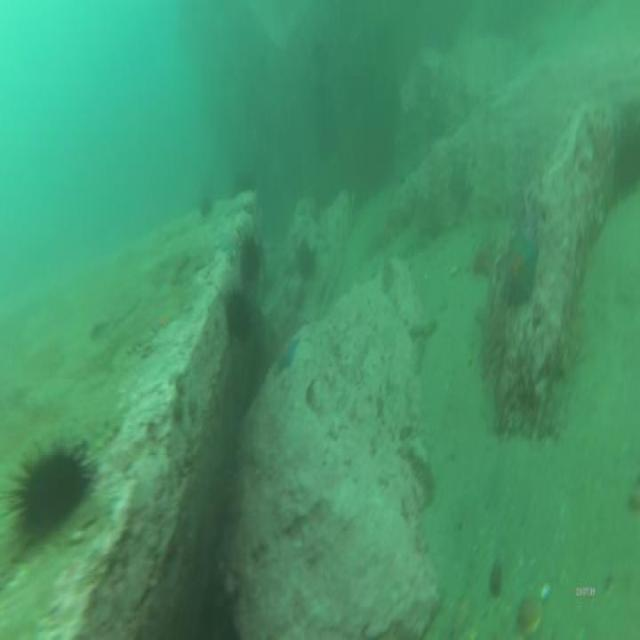echinus: (17, 444, 85, 534), (218, 291, 258, 351), (236, 235, 266, 286), (296, 238, 316, 282)
starfish: (498, 229, 541, 308), (274, 334, 300, 379)
